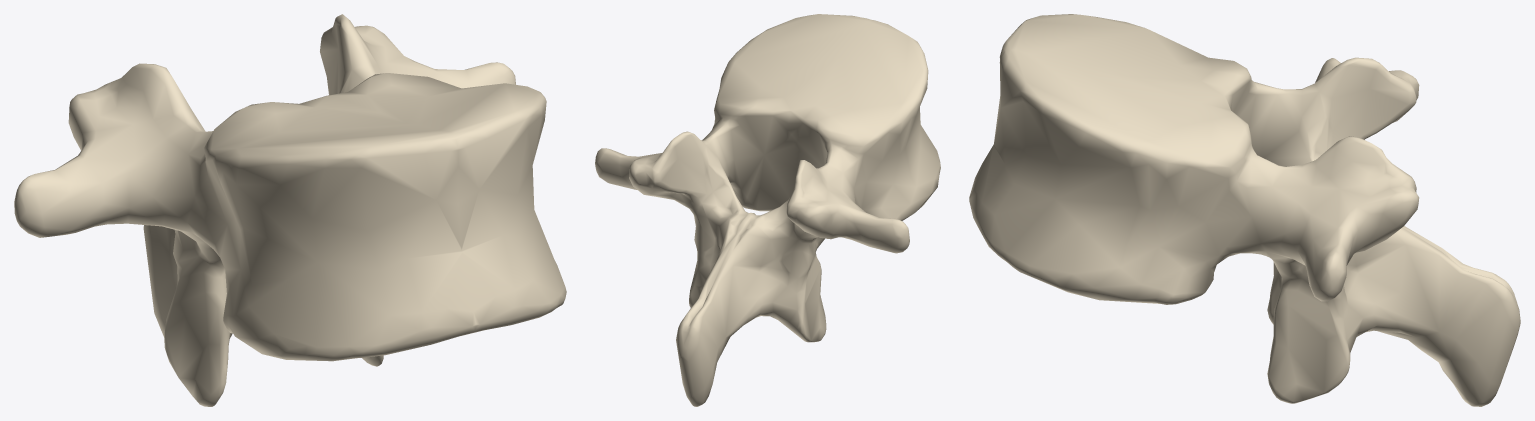
Rendered from vertebra-l1.glb.
3 views of the same model, side by side, from view 1: azimuth 30°, elevation 25°; view 2: azimuth 150°, elevation 25°; view 3: azimuth 270°, elevation 25° (orthographic). The views are drawn at different scales.
Visible parts, largest first — view 1: Vertebra L1; view 2: Vertebra L1; view 3: Vertebra L1.
Part boxes in pixels (left/top/right/bottom): Vertebra L1: left=14, top=14, right=566, bottom=406; Vertebra L1: left=595, top=14, right=940, bottom=406; Vertebra L1: left=969, top=14, right=1520, bottom=406.
Bounding box in the file's own units: 0.0744 × 0.0593 × 0.0831.
